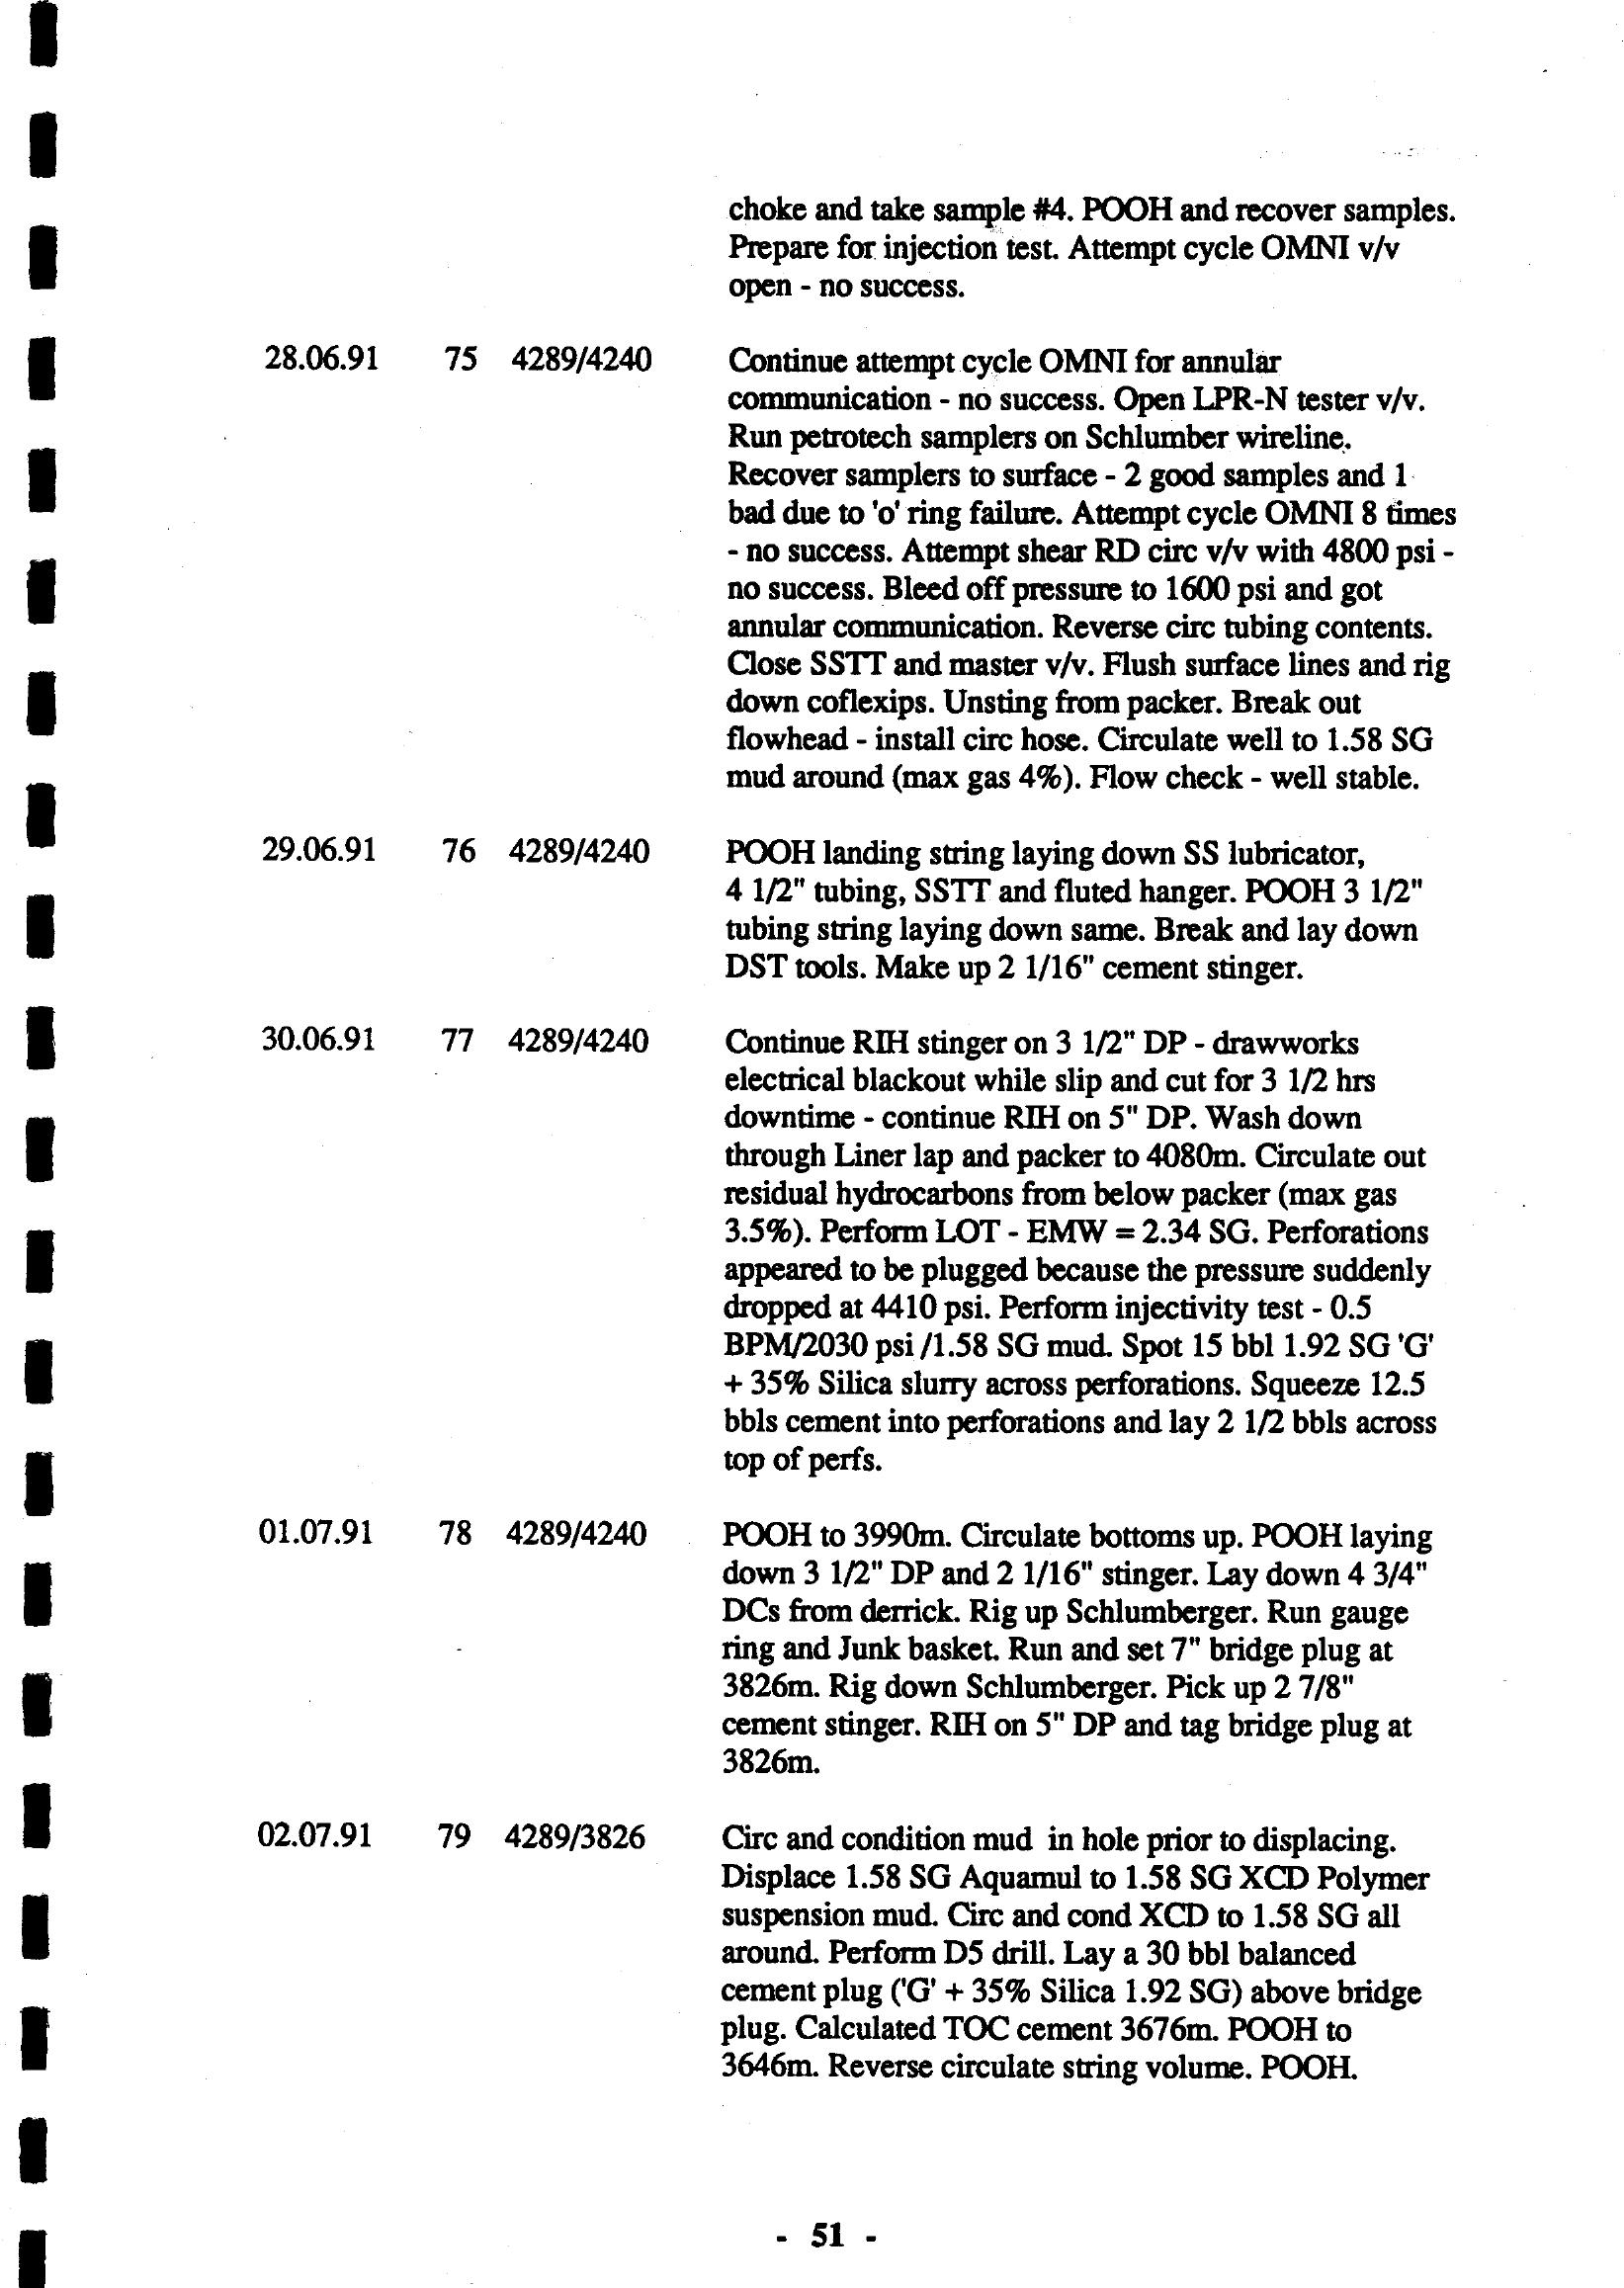text: (204, 169, 1501, 2119)
